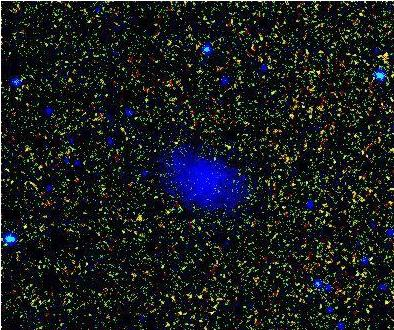star: (124, 203, 154, 233)
